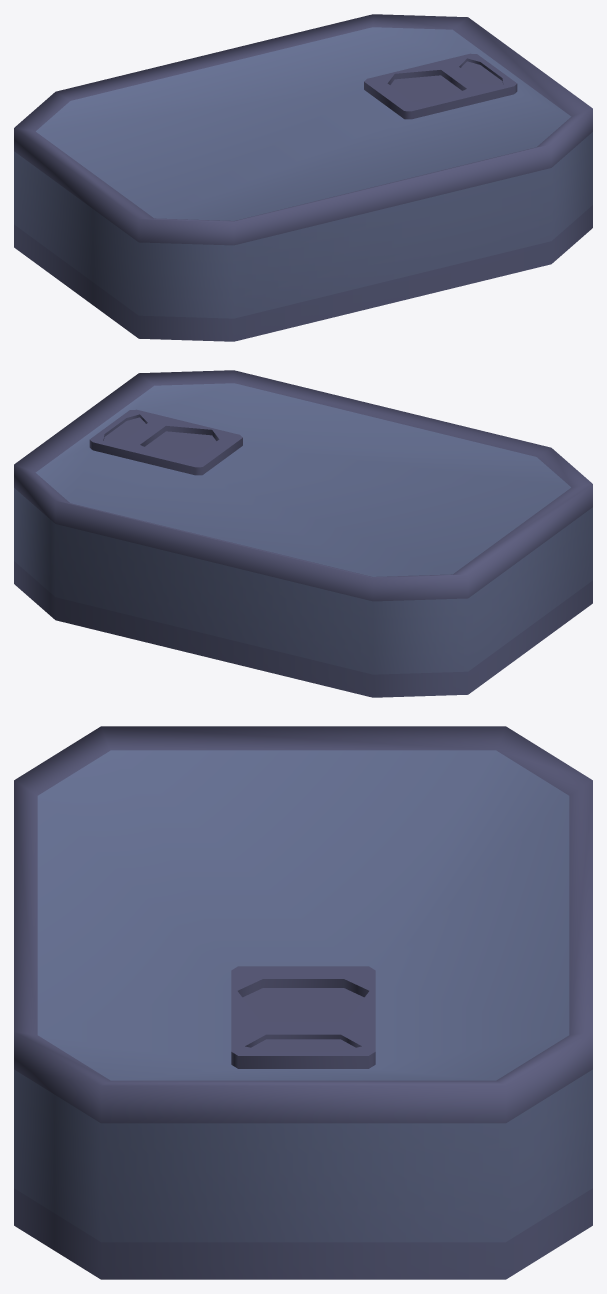
Rendered from can_food_square_blue.fbx.
The picture shows the model from 3 angles, top to bottom: view 1: azimuth 30°, elevation 25°; view 2: azimuth 150°, elevation 25°; view 3: azimuth 270°, elevation 25°; orthographic projection. The views are drawn at different scales.
Parts seen in each view (by area): view 1: can_food_square_blue; view 2: can_food_square_blue; view 3: can_food_square_blue.
Part boxes in pixels (box(x1,y1,x2,y2)): can_food_square_blue: box(14, 14, 592, 341); can_food_square_blue: box(14, 370, 592, 697); can_food_square_blue: box(14, 726, 592, 1279).
Size of the model in its own units: 80.81 by 20.69 by 54.99.
